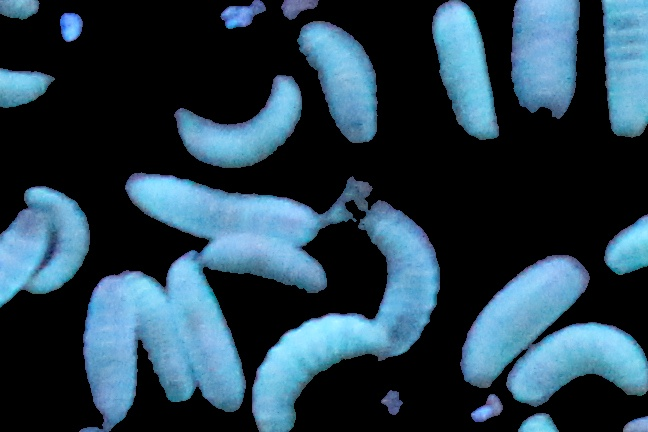larvae: (462, 255, 588, 392), (348, 184, 435, 361), (119, 172, 323, 243), (251, 312, 372, 430), (173, 76, 303, 170), (506, 321, 648, 406), (167, 261, 245, 413), (296, 20, 383, 144), (428, 1, 499, 143), (128, 272, 196, 404), (513, 1, 582, 127), (21, 184, 92, 297), (83, 276, 135, 425), (199, 237, 328, 295), (596, 1, 648, 140), (1, 210, 47, 308), (603, 209, 648, 278), (1, 59, 60, 110)
